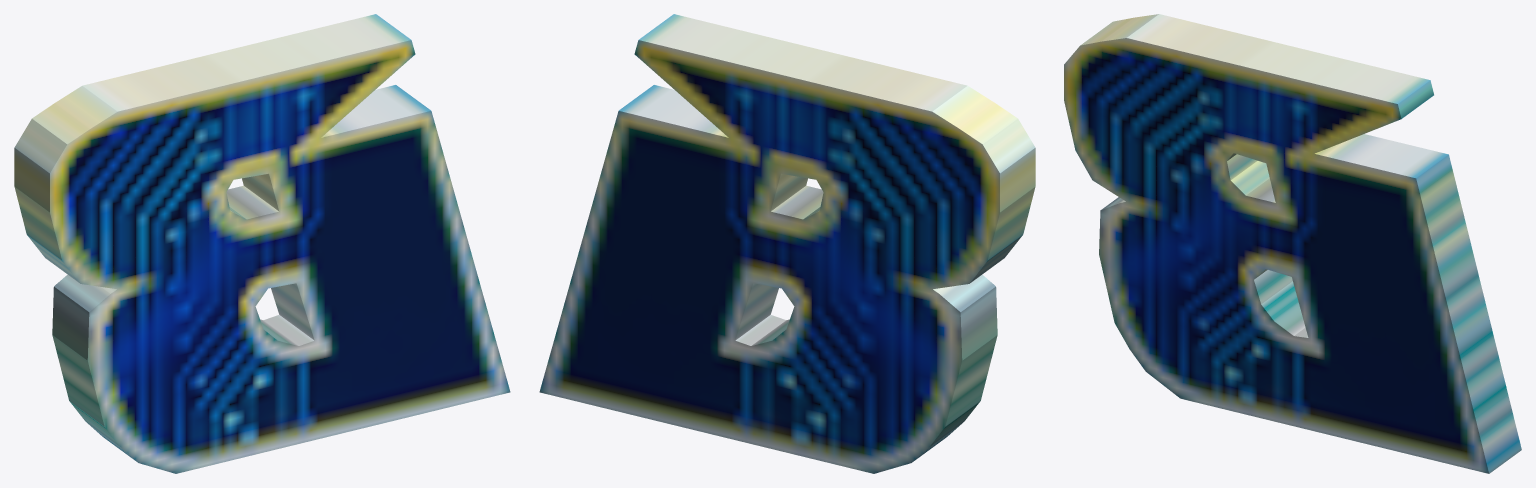
File: BuildingB.fbx
3 views of the same model, side by side, from view 1: azimuth 30°, elevation 25°; view 2: azimuth 150°, elevation 25°; view 3: azimuth 330°, elevation 25° (orthographic). The views are drawn at different scales.
Visible parts, largest first — view 1: unnamed; view 2: unnamed; view 3: unnamed.
Part boxes in pixels (left/top/right/bottom): unnamed: left=14, top=14, right=510, bottom=473; unnamed: left=539, top=14, right=1035, bottom=473; unnamed: left=1064, top=14, right=1521, bottom=473.
Size of the model in its own units: 2136 by 1669 by 285.
